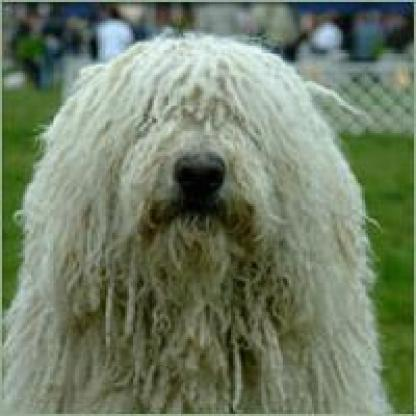komondor: (0, 29, 393, 412)
